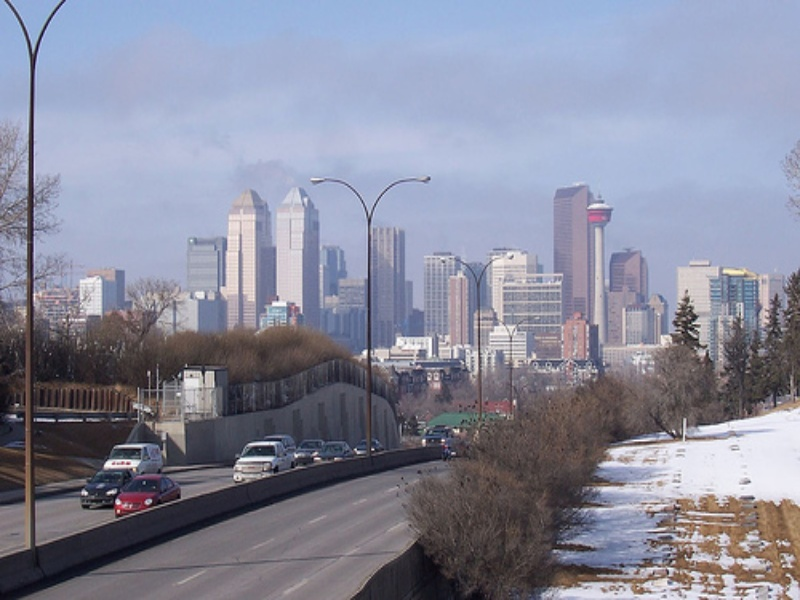car: (114, 475, 181, 516), (233, 442, 296, 482), (104, 443, 165, 478), (81, 470, 133, 509), (314, 440, 353, 463), (295, 439, 325, 464), (422, 427, 455, 446), (444, 438, 458, 462)
